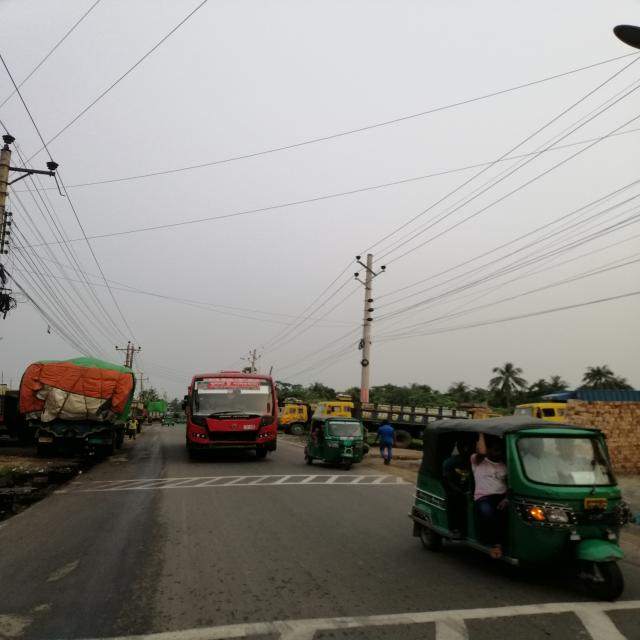Bus: (183, 366, 283, 460)
CNG: (417, 410, 636, 600), (305, 417, 369, 471)
